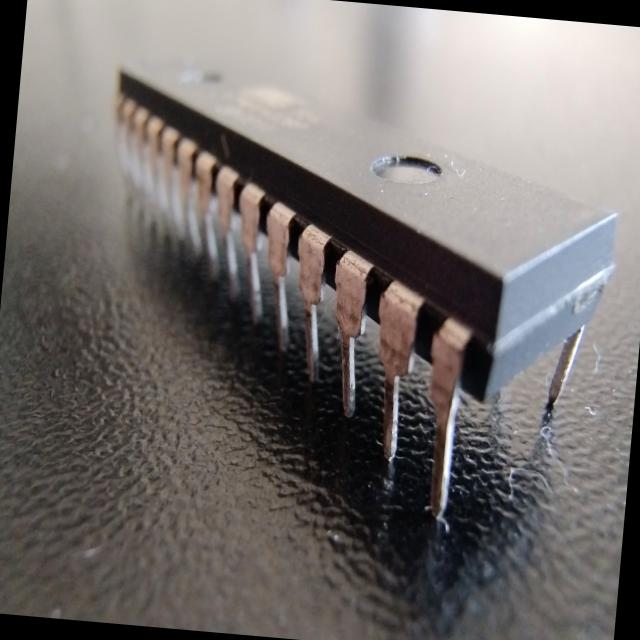atmega: (75, 48, 632, 544)
